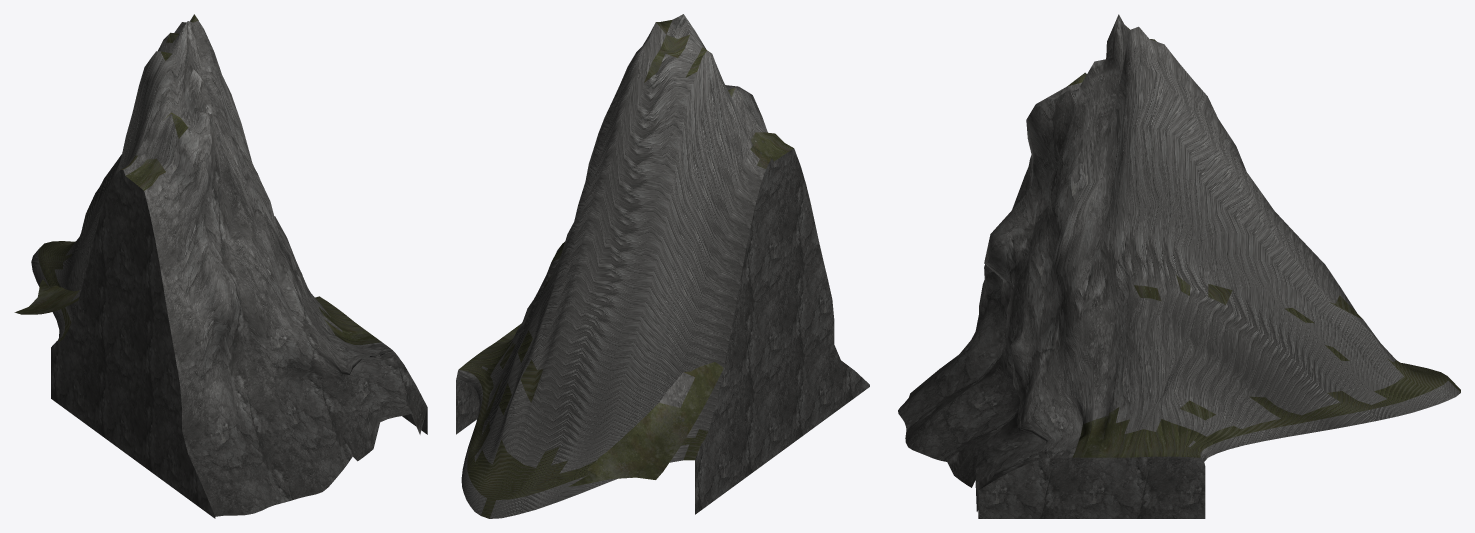
File: seacliff_endcap_right_h5_a_v5_summer.glb
3 views of the same model, side by side, from view 1: azimuth 30°, elevation 25°; view 2: azimuth 150°, elevation 25°; view 3: azimuth 270°, elevation 25° (orthographic). The views are drawn at different scales.
Parts seen in each view (by area): view 1: seacliff_endcap_right_h5_a; view 2: seacliff_endcap_right_h5_a; view 3: seacliff_endcap_right_h5_a.
Boxes of the visible parts, x1,y1,x2,y2 form: seacliff_endcap_right_h5_a: (14,14,427,518); seacliff_endcap_right_h5_a: (456,14,869,518); seacliff_endcap_right_h5_a: (898,14,1460,518).
Bounding box in the file's own units: 6 × 9.49 × 11.57.
2 materials, 2 textured.
